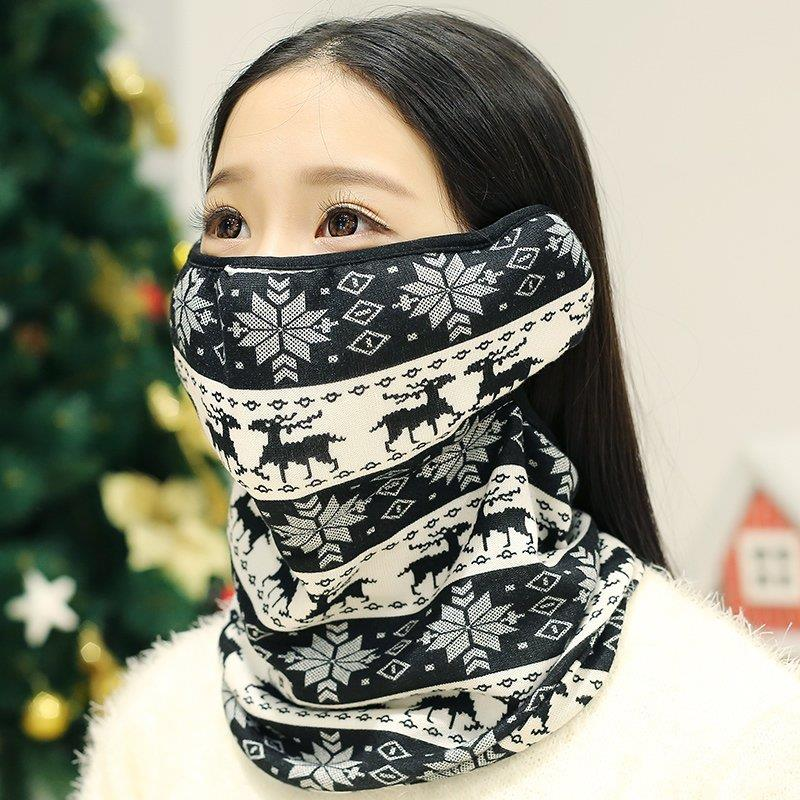face_mask: (191, 68, 458, 447)
